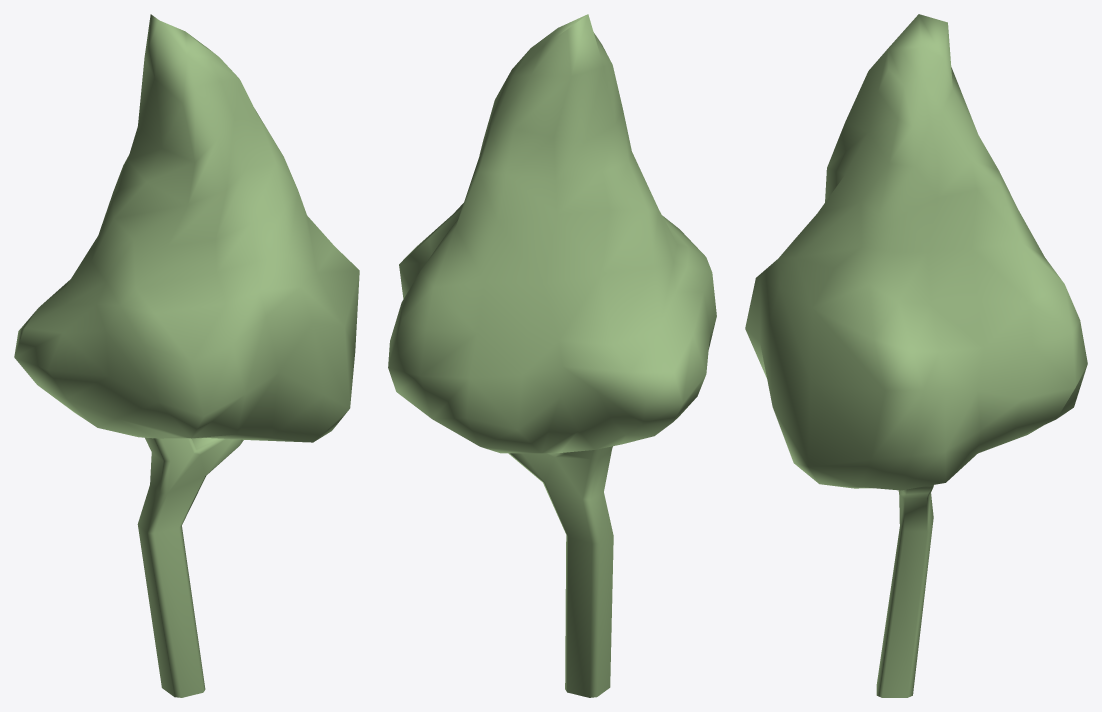
Rendered from Tree3_uv.fbx.
3 views of the same model, side by side, from view 1: azimuth 30°, elevation 25°; view 2: azimuth 150°, elevation 25°; view 3: azimuth 270°, elevation 25° (orthographic). The views are drawn at different scales.
Parts seen in each view (by area): view 1: pSphere1, pCube1; view 2: pSphere1, pCube1; view 3: pSphere1, pCube1.
Part boxes in pixels (left/top/right/bottom): pSphere1: left=14, top=14, right=359, bottom=442; pCube1: left=137, top=437, right=243, bottom=697; pSphere1: left=388, top=14, right=716, bottom=453; pCube1: left=508, top=446, right=613, bottom=697; pSphere1: left=745, top=14, right=1087, bottom=490; pCube1: left=876, top=485, right=933, bottom=697.
Bounding box in the file's own units: 267 × 560 × 260.
